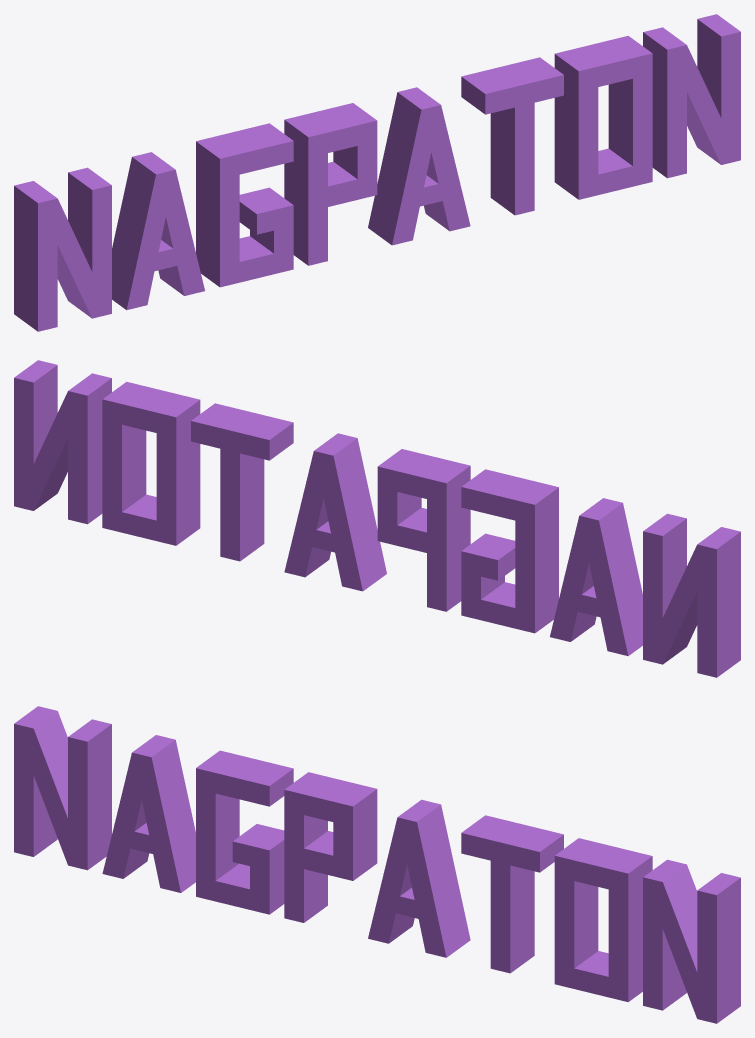
The model's file is nagpaton-01.glb.
3 renders of one model, top to bottom at view 1: azimuth 30°, elevation 25°; view 2: azimuth 150°, elevation 25°; view 3: azimuth 330°, elevation 25°, orthographic.
Parts seen in each view (by area): view 1: N (×2), A (×2), O, G, P, T; view 2: N (×2), A (×2), O, G, P, T; view 3: N (×2), A (×2), O, G, P, T.
Boxes of the visible parts, box(x1,y1,x2,y2) form: N (×2): box(14, 14, 740, 331); A (×2): box(112, 87, 470, 310); O: box(554, 35, 652, 199); G: box(196, 123, 293, 287); P: box(284, 103, 377, 265); T: box(461, 57, 563, 215); N (×2): box(14, 360, 740, 677); A (×2): box(284, 433, 642, 656); O: box(102, 381, 200, 545); G: box(461, 469, 558, 633); P: box(377, 449, 470, 611); T: box(191, 403, 293, 561); N (×2): box(14, 706, 740, 1023); A (×2): box(102, 735, 470, 957); O: box(554, 838, 652, 1002); G: box(196, 750, 293, 914); P: box(284, 772, 377, 922); T: box(461, 815, 563, 973).
Size of the model in its own units: 5.72 by 1 by 0.34.
